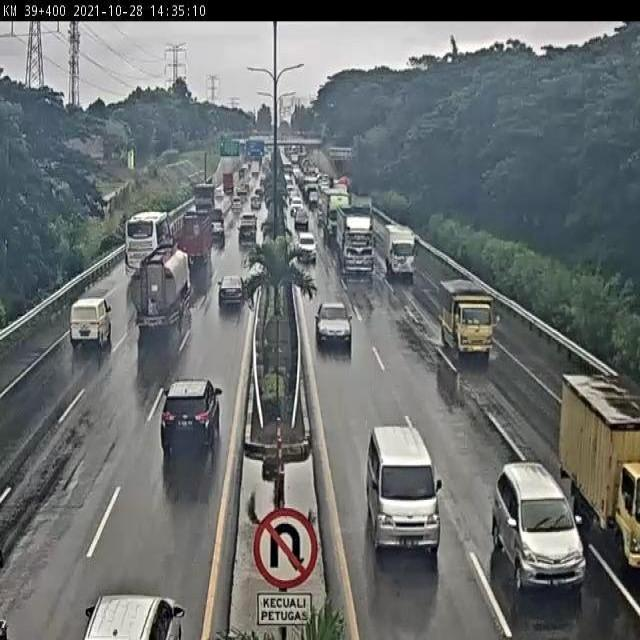big bus: (116, 198, 178, 286)
big truck: (123, 235, 196, 361), (329, 201, 385, 272), (323, 187, 353, 241)
car: (487, 453, 590, 608), (360, 419, 455, 561), (148, 359, 236, 488), (77, 550, 191, 640), (53, 285, 115, 355), (315, 296, 357, 356), (212, 266, 251, 322), (290, 230, 323, 266), (233, 216, 262, 251), (292, 211, 312, 228)
small truck: (554, 368, 640, 571), (440, 274, 502, 362), (379, 223, 424, 285), (179, 204, 218, 269), (192, 180, 216, 215), (204, 208, 224, 245)
